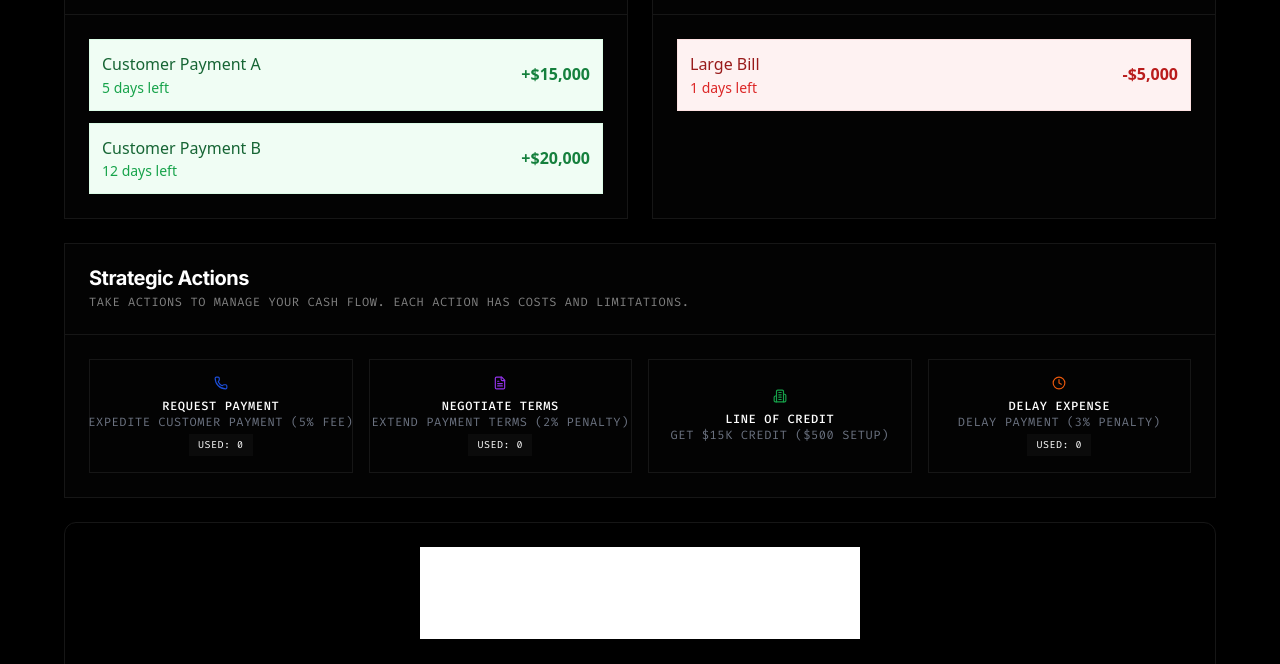
Test: CashFlowChallenge › shows game over when cash position goes negative
The width and height of the screenshot is (1280, 664).
(page scrolled)
What coordinates should you click on to do the following:
click the button "Run Simulation Day 1 → 2"
I would click on:
 (640, 593)
Its box is [420,547,860,639].
(page scrolled)
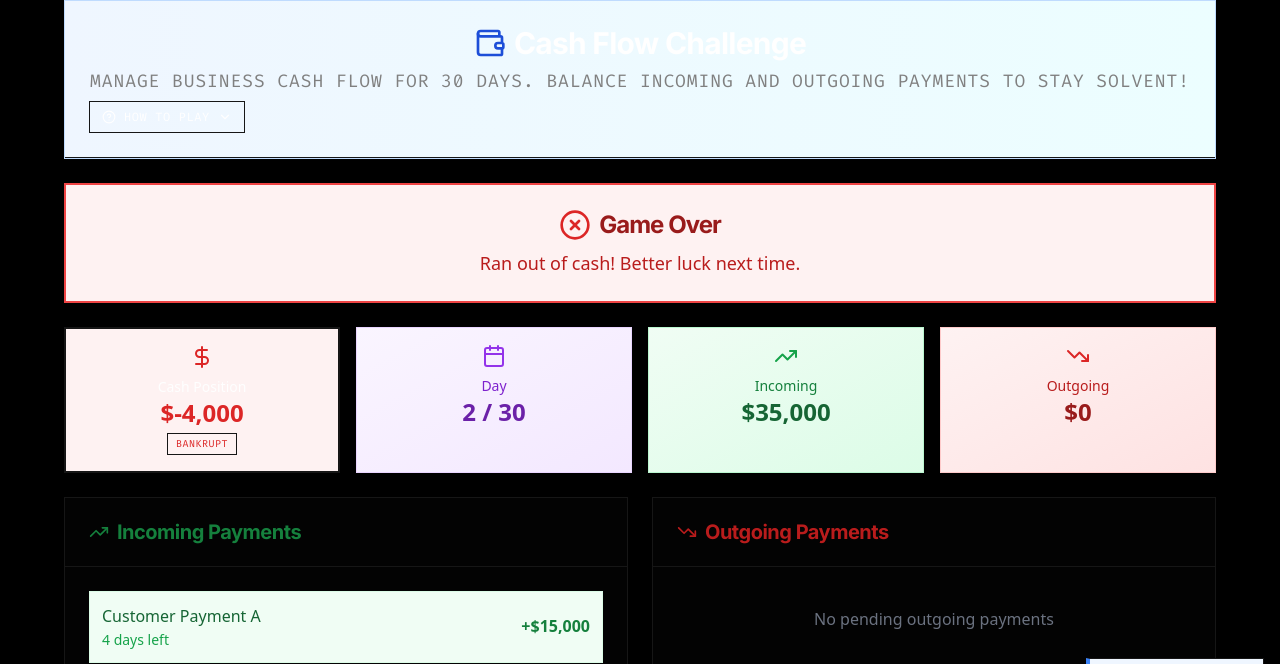
Check: the heading "Game Over" is shown, box [599,209,721,241]
